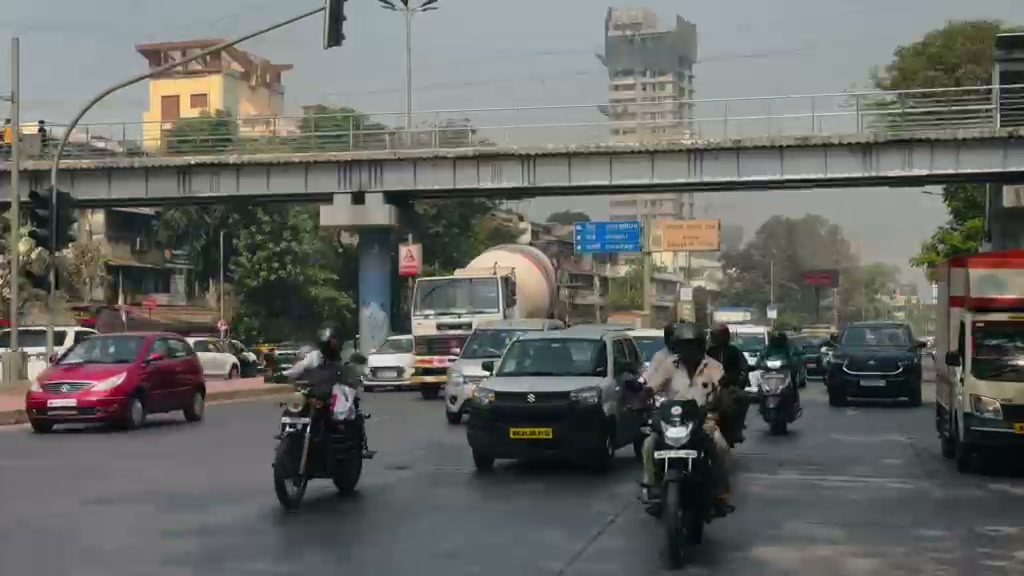bus: (933, 249, 1023, 470)
car: (461, 329, 655, 475), (25, 332, 207, 433), (442, 318, 566, 425), (824, 320, 923, 407), (0, 325, 100, 363), (366, 334, 415, 386), (185, 336, 241, 380), (786, 336, 827, 376), (728, 325, 768, 363)
motorcycle: (633, 389, 730, 569), (268, 370, 376, 511), (754, 365, 801, 436)
pedestrian: (631, 321, 735, 513), (285, 322, 367, 460), (706, 324, 752, 445), (707, 324, 751, 405), (752, 329, 806, 394)
truck: (409, 243, 558, 393), (933, 250, 1024, 470), (409, 268, 515, 395)
